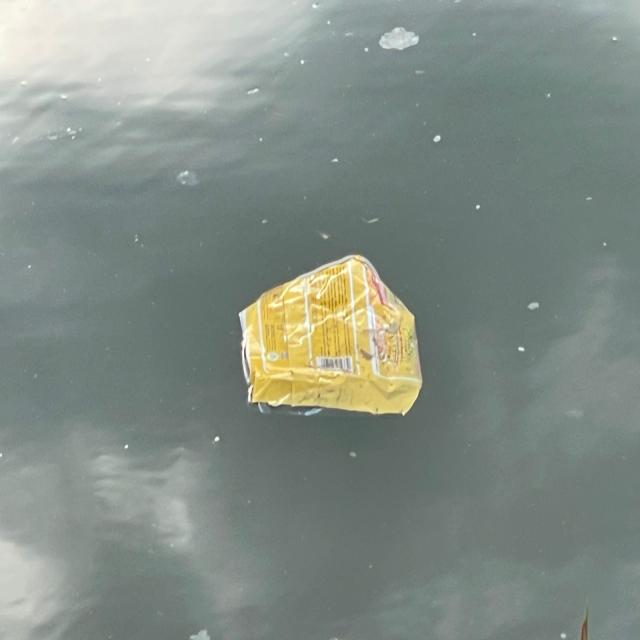Bungkus Makanan: (237, 252, 426, 421)
